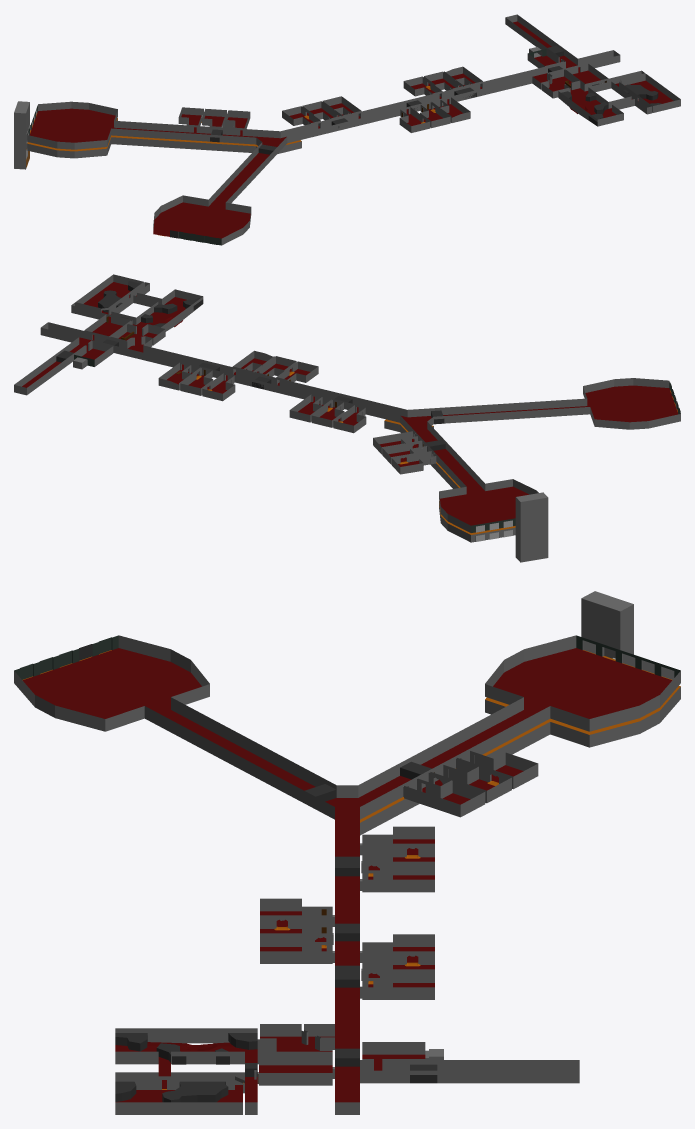
File: Nivel2_New_Colors.fbx
The picture shows the model from 3 angles, top to bottom: view 1: azimuth 30°, elevation 25°; view 2: azimuth 150°, elevation 25°; view 3: azimuth 270°, elevation 25°; orthographic projection. The views are drawn at different scales.
Parts seen in each view (by area): view 1: polySurface1843; view 2: polySurface1843; view 3: polySurface1843, polySurface1855.
Boxes of the visible parts, x1,y1,x2,y2 form: polySurface1843: (14,14,680,245); polySurface1843: (14,274,680,562); polySurface1843: (14,591,680,1114); polySurface1855: (162,1081,228,1102).
Bounding box in the file's own units: 22454 × 2250 × 13352.
